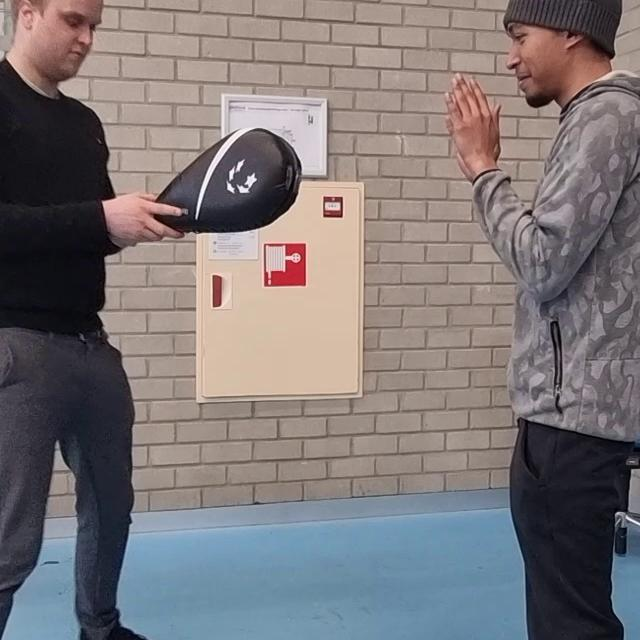paddle: (151, 127, 303, 233)
